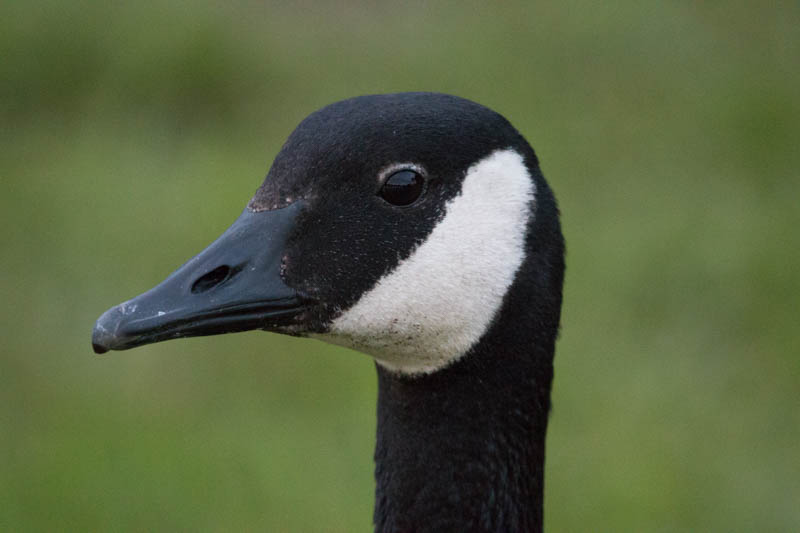goose-head: (91, 94, 566, 377)
